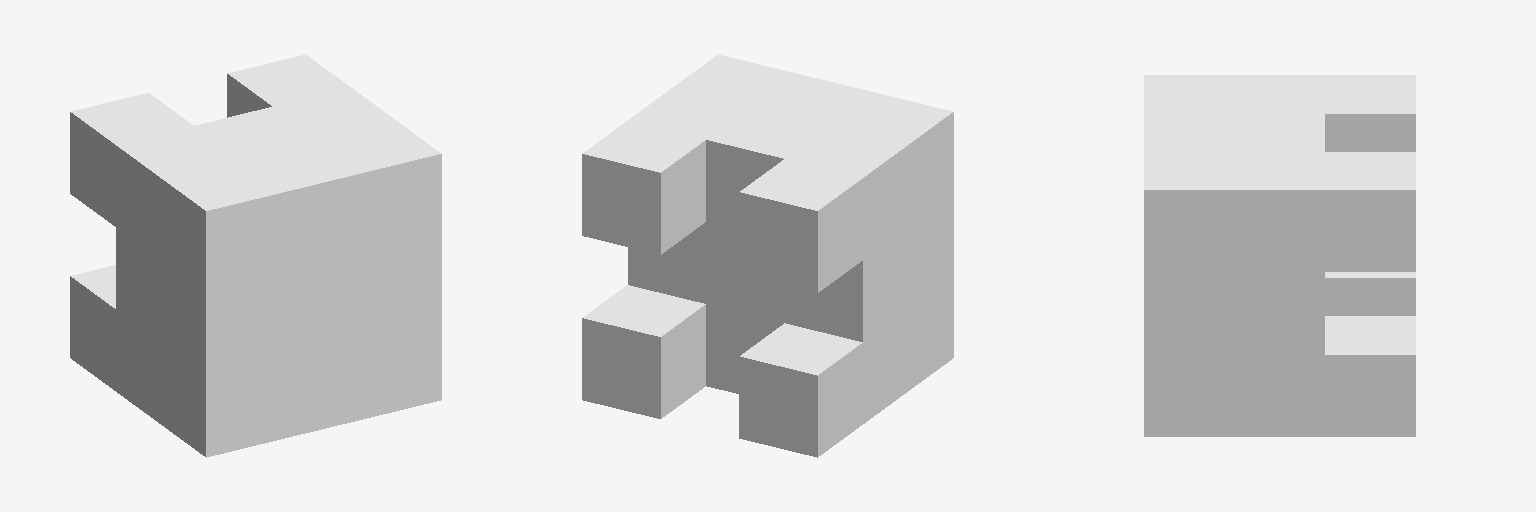
Rendered from muela.obj.
The picture shows the model from 3 angles: view 1: azimuth 30°, elevation 25°; view 2: azimuth 150°, elevation 25°; view 3: azimuth 270°, elevation 25°; orthographic projection.
Parts seen in each view (by area): view 1: muela; view 2: muela; view 3: muela.
Part boxes in pixels (x1,y1,x2,y2): muela: (70, 54, 441, 457); muela: (582, 54, 953, 457); muela: (1144, 75, 1415, 436).
Size of the model in its own units: 3 by 3 by 3.